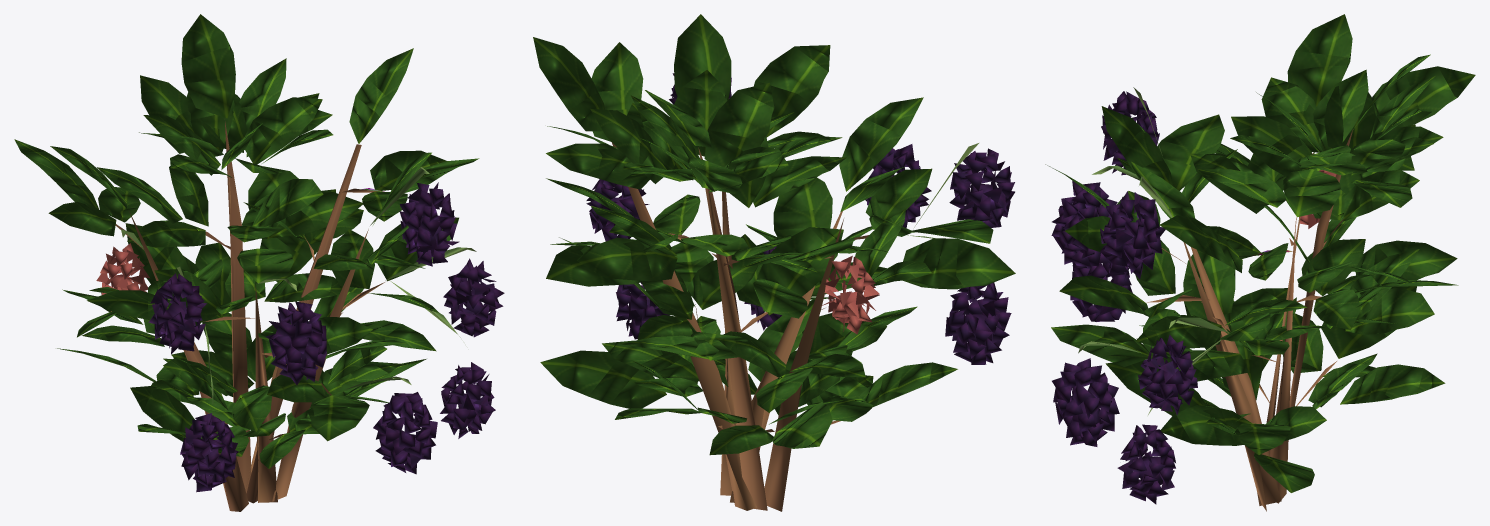
File: NP_Blackberry_Ready_LOD1.fbx
The picture shows the model from 3 angles, left to right: view 1: azimuth 30°, elevation 25°; view 2: azimuth 150°, elevation 25°; view 3: azimuth 270°, elevation 25°; orthographic projection. The views are drawn at different scales.
Visible parts, largest first — view 1: NP_Blackberry_Ready; view 2: NP_Blackberry_Ready; view 3: NP_Blackberry_Ready.
Boxes of the visible parts, x1,y1,x2,y2 form: NP_Blackberry_Ready: (14,14,504,511); NP_Blackberry_Ready: (533,14,1015,511); NP_Blackberry_Ready: (1045,14,1475,511).
Bounding box in the file's own units: 79.64 × 80.53 × 69.29.
Materials: 1 (1 with a texture image).
